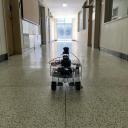cart: (50, 60, 82, 90)
